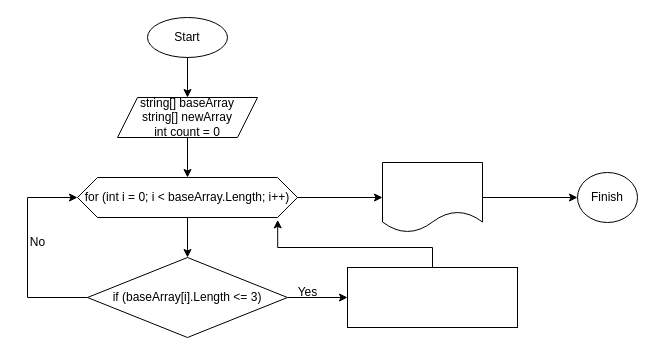
Image size: 655x355. Some labels were removed from this diagram. The centre of each missing label's shape, as x and y in pixels:
"newArray[count] = baseArray[i] count++" belongs at pixel 432 297.
"print newArray" belongs at pixel 432 197.
